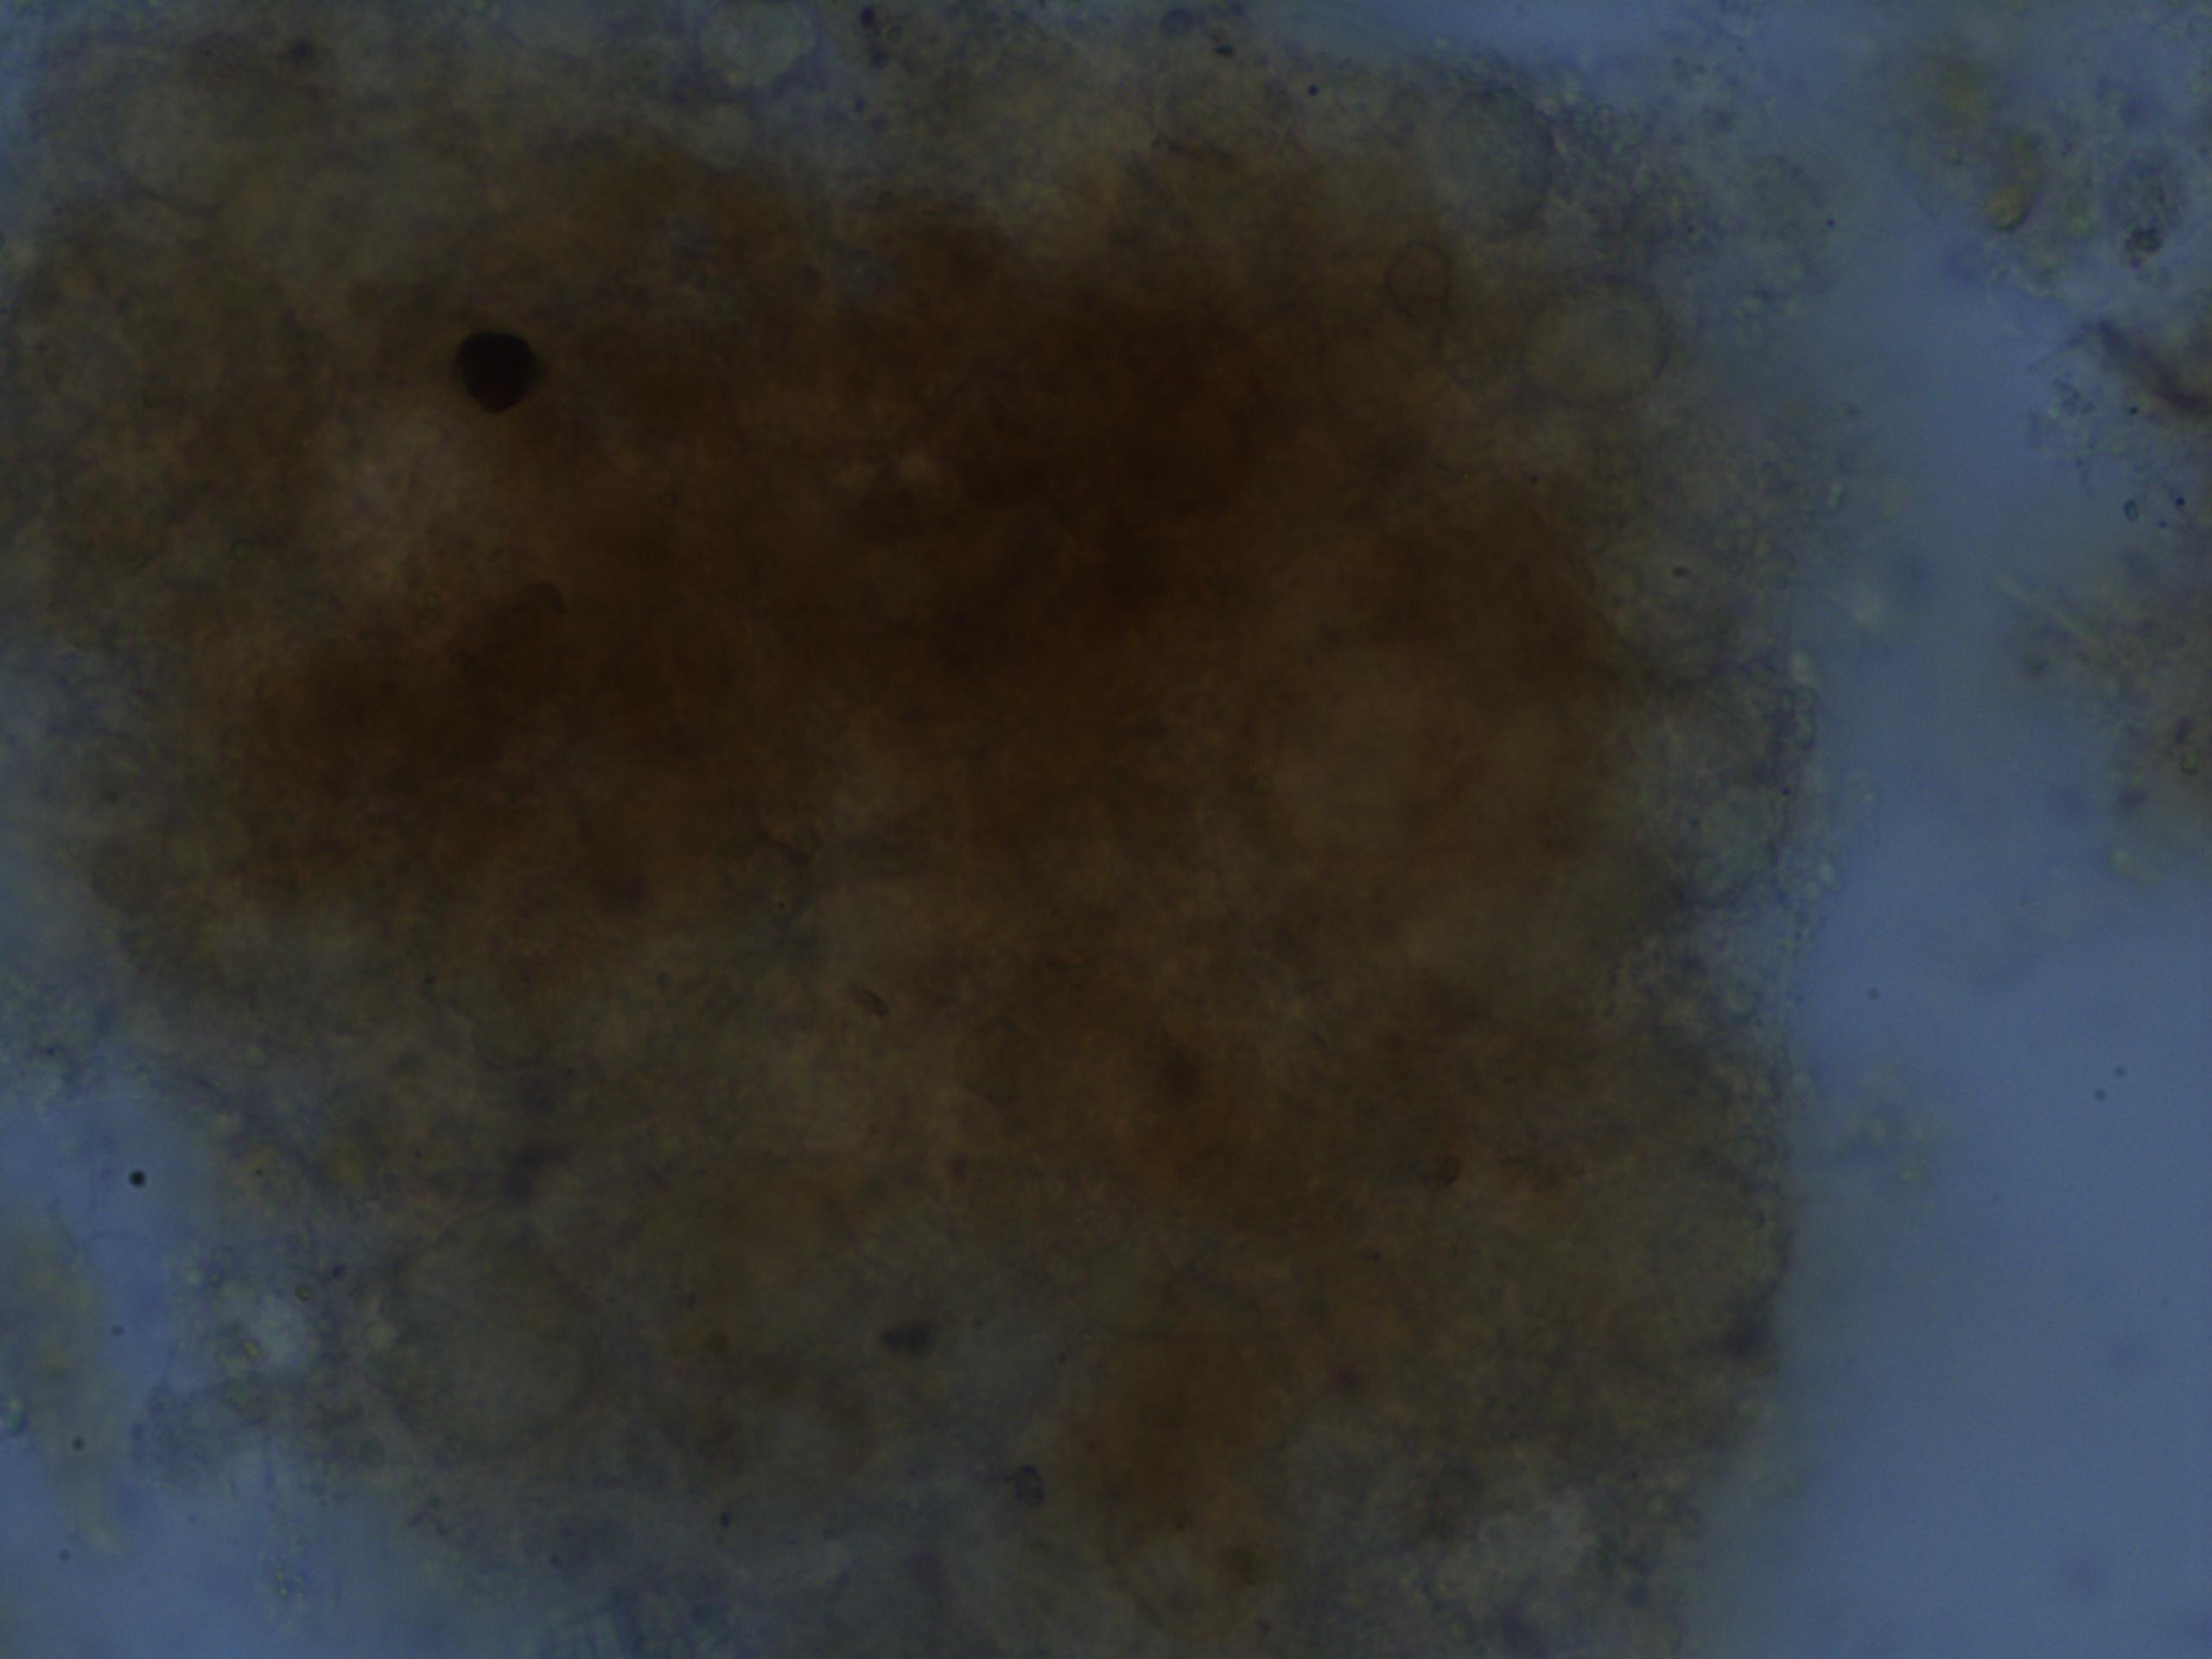spherical_floc: (5, 0, 1831, 1659)
